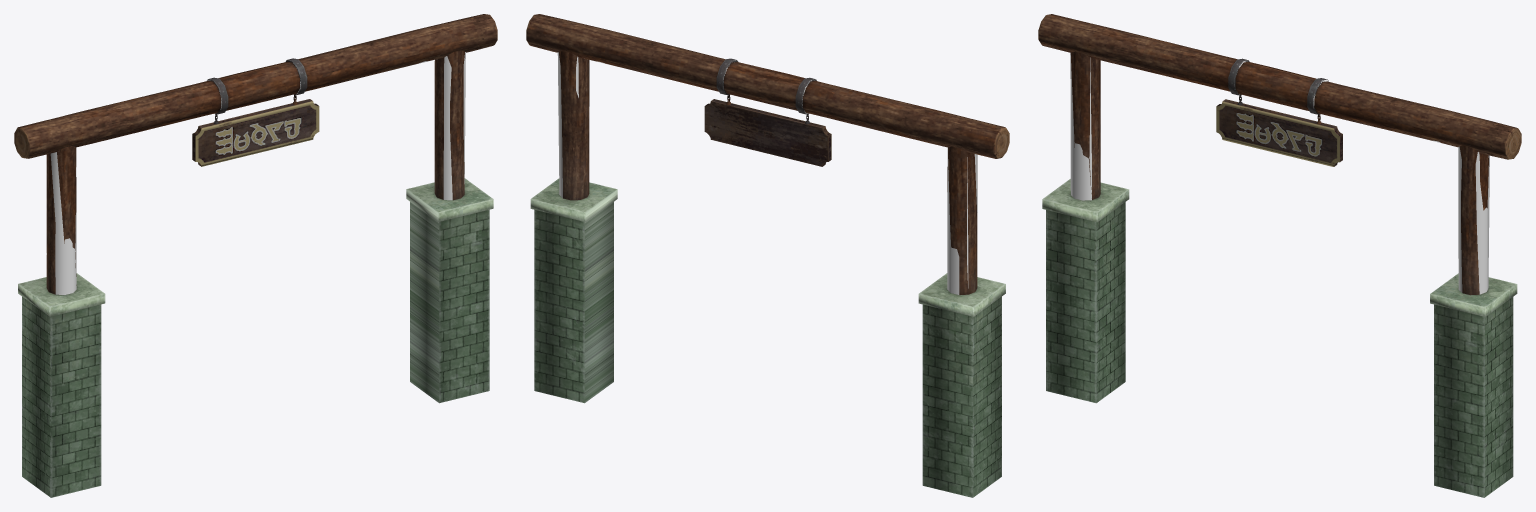
File: objects_un_t04ranchegate01.gltf
3 views of the same model, side by side, from view 1: azimuth 30°, elevation 25°; view 2: azimuth 150°, elevation 25°; view 3: azimuth 330°, elevation 25° (orthographic).
Parts seen in each view (by area): view 1: um_objects_un_t04ranchegate01_model_lod0Shape:objects_un_t04 (×2); view 2: um_objects_un_t04ranchegate01_model_lod0Shape:objects_un_t04 (×2); view 3: um_objects_un_t04ranchegate01_model_lod0Shape:objects_un_t04 (×2).
Part boxes in pixels (left/top/right/bottom): um_objects_un_t04ranchegate01_model_lod0Shape:objects_un_t04 (×2): left=14, top=14, right=497, bottom=497; um_objects_un_t04ranchegate01_model_lod0Shape:objects_un_t04 (×2): left=526, top=14, right=1009, bottom=497; um_objects_un_t04ranchegate01_model_lod0Shape:objects_un_t04 (×2): left=1038, top=14, right=1521, bottom=497.
Size of what is drawn, in the model's own units: 8.64 by 6.42 by 1.02.
Materials: 2 (1 with a texture image).
